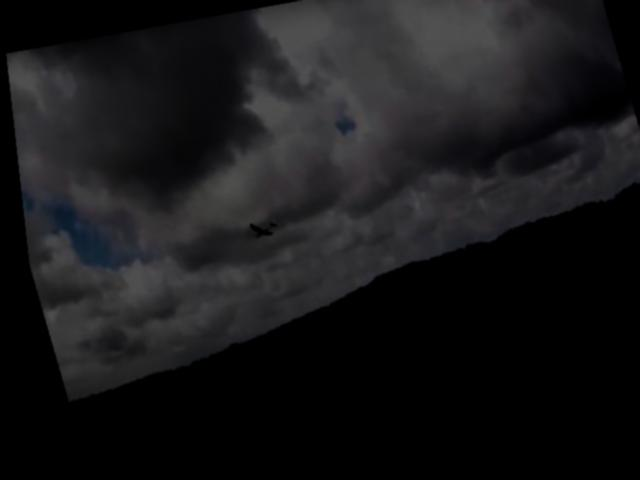iha: (240, 213, 275, 240)
